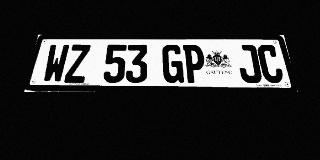3: (125, 45, 148, 83)
5: (103, 45, 127, 83)
C: (256, 45, 285, 83)
G: (162, 45, 184, 83)
J: (236, 45, 263, 83)
P: (183, 45, 206, 83)
W: (41, 44, 70, 83)
Z: (64, 44, 91, 83)
